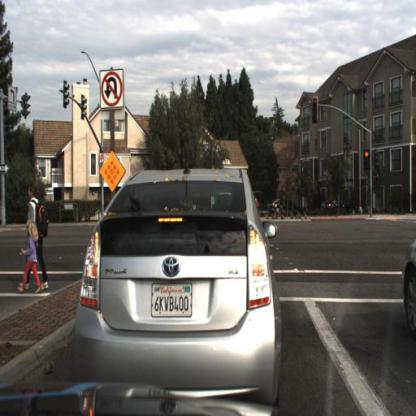car: (73, 159, 282, 402), (400, 230, 416, 338), (319, 194, 354, 219), (268, 192, 295, 219)
pedestrian: (18, 179, 51, 297), (18, 217, 38, 296), (275, 191, 290, 226), (278, 194, 287, 220)
trafficLight-Red: (362, 146, 373, 174), (312, 93, 321, 125)
